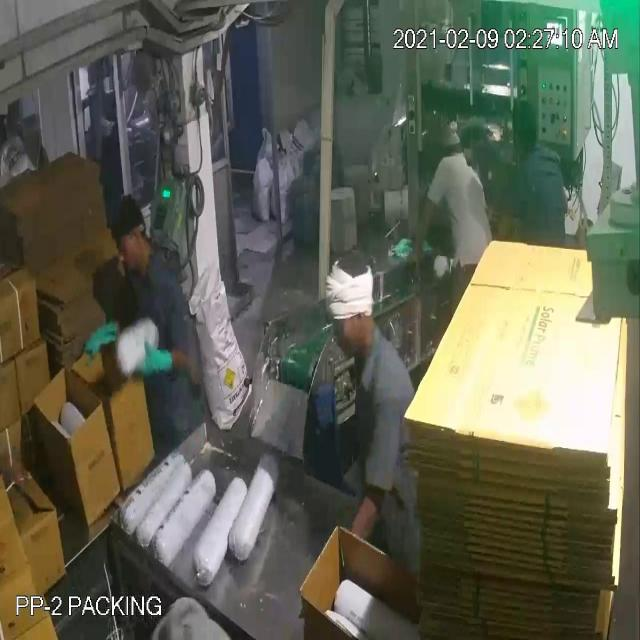Gloves: (31, 52, 422, 364)
